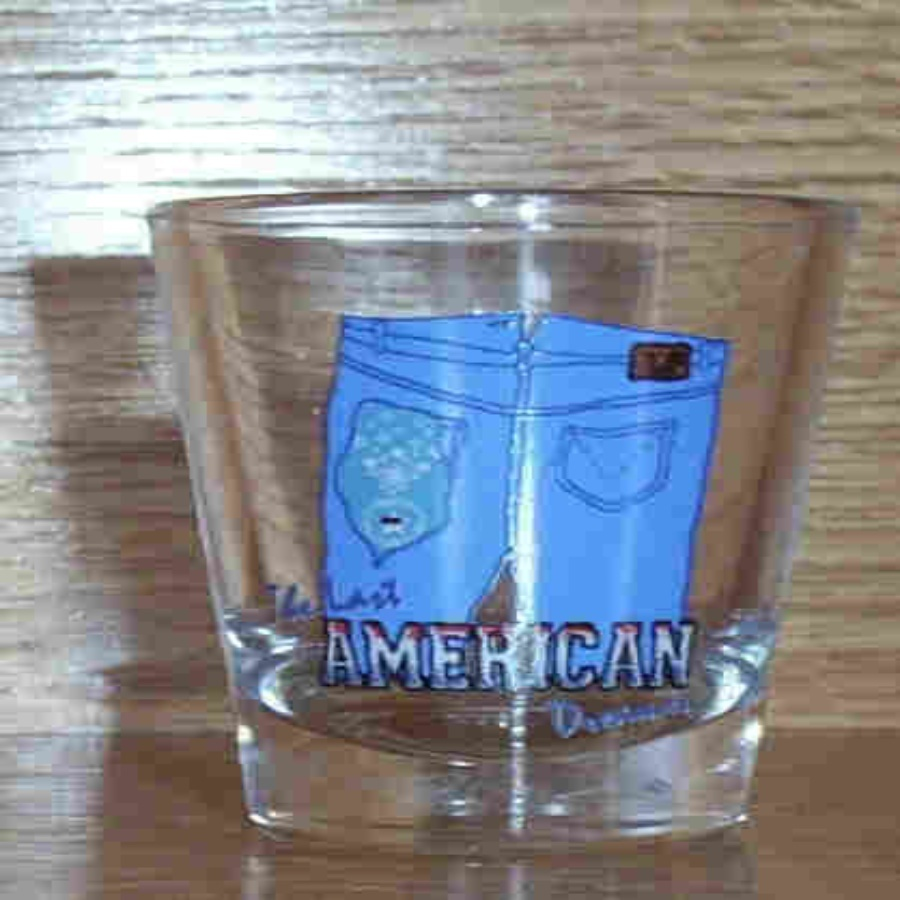whiskey: (197, 181, 811, 839)
